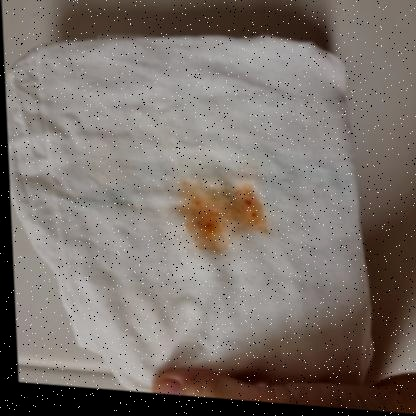kimchi: (179, 174, 268, 258)
